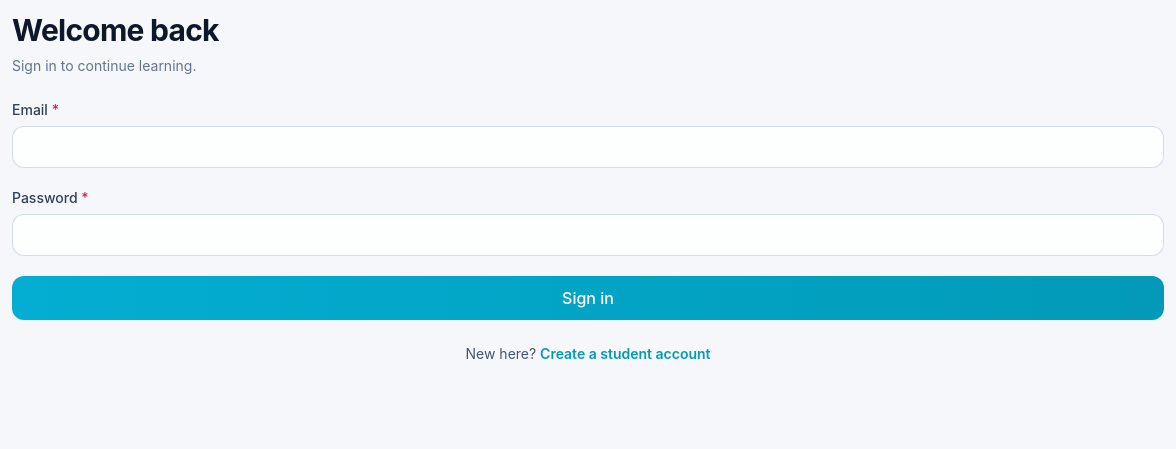
it: LoginPage › shows the server message for bad credentials
In the field labelled "Email *": (588, 147) [12,126,1164,168], type "asha@example.com"
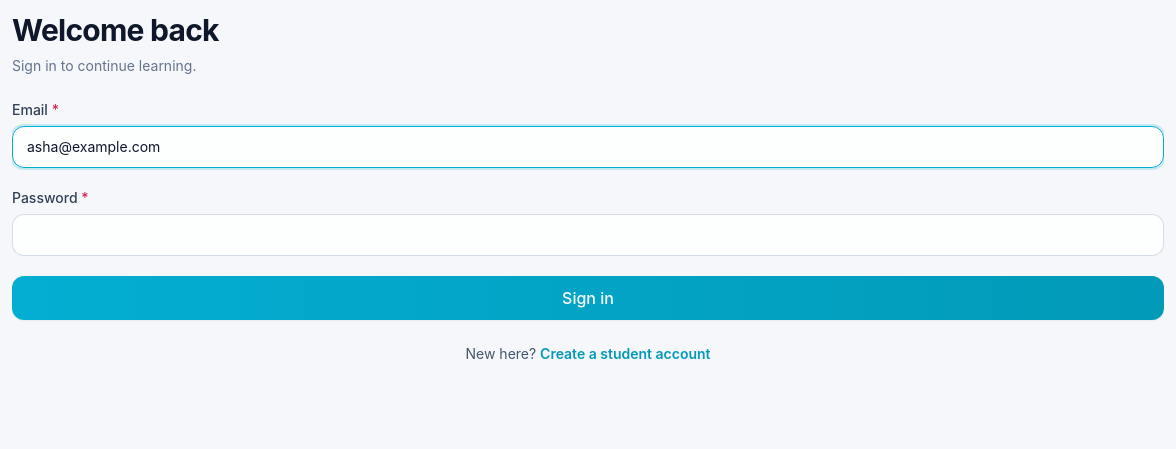
In the password field labelled "Password *": (588, 235) [12,214,1164,256], type "wrong"
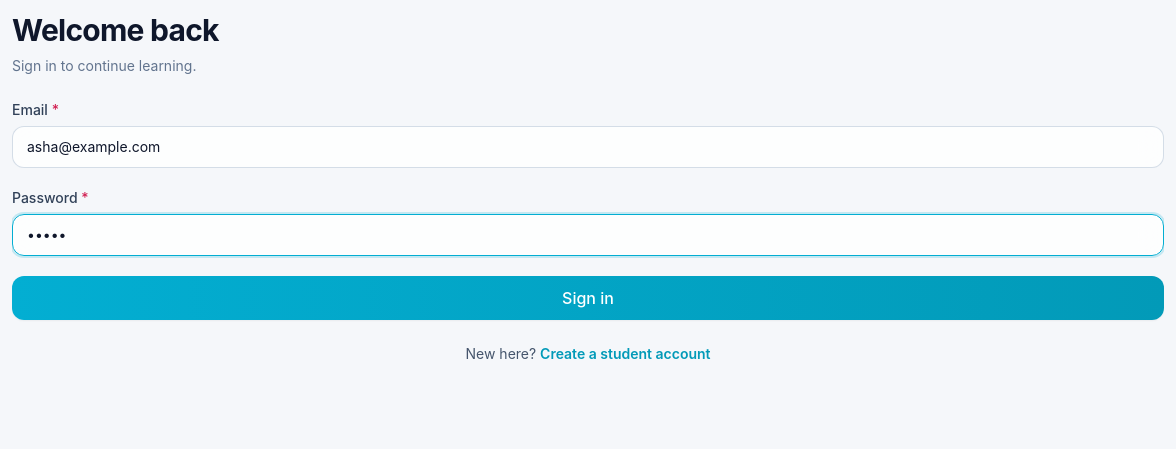
Click the button "Sign in": (588, 298) [12,276,1164,320]
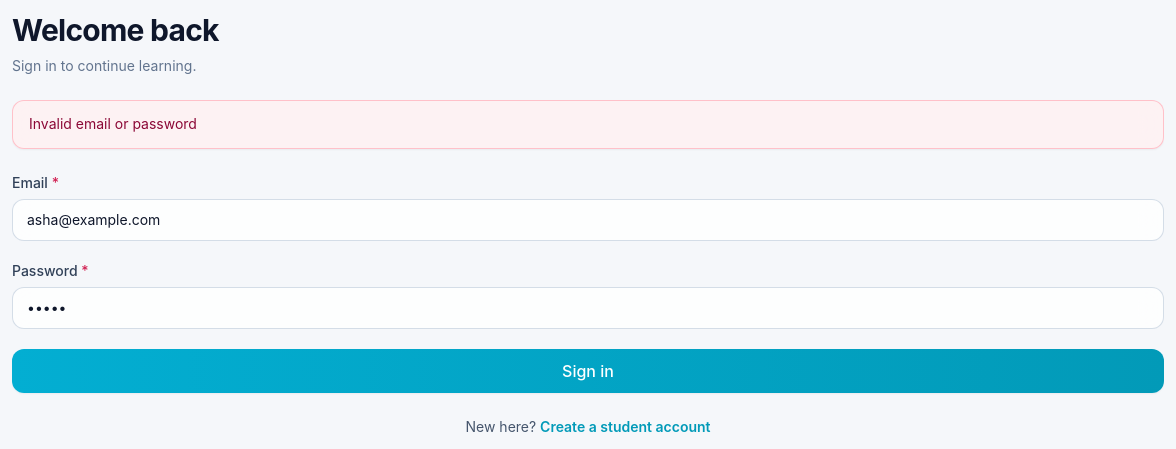
Expected: the message reads "Invalid email or password", [29,115,197,132]
